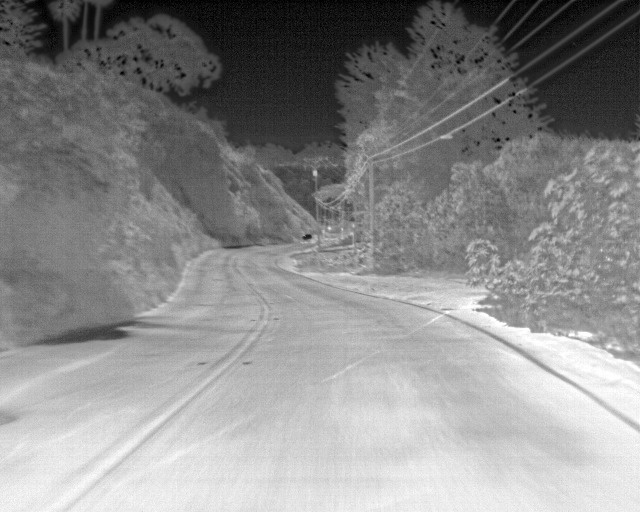car: (297, 231, 320, 246)
